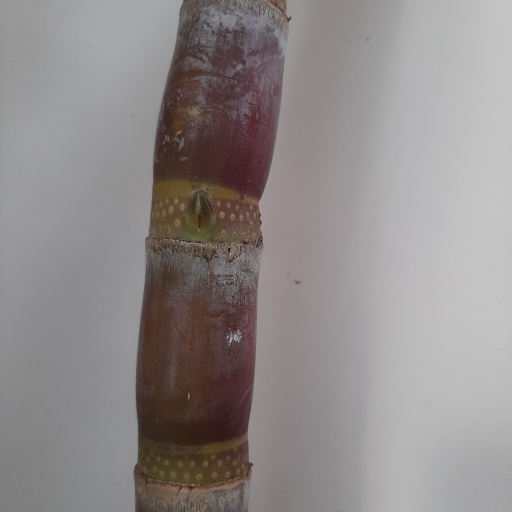Bud: (188, 189, 213, 230)
